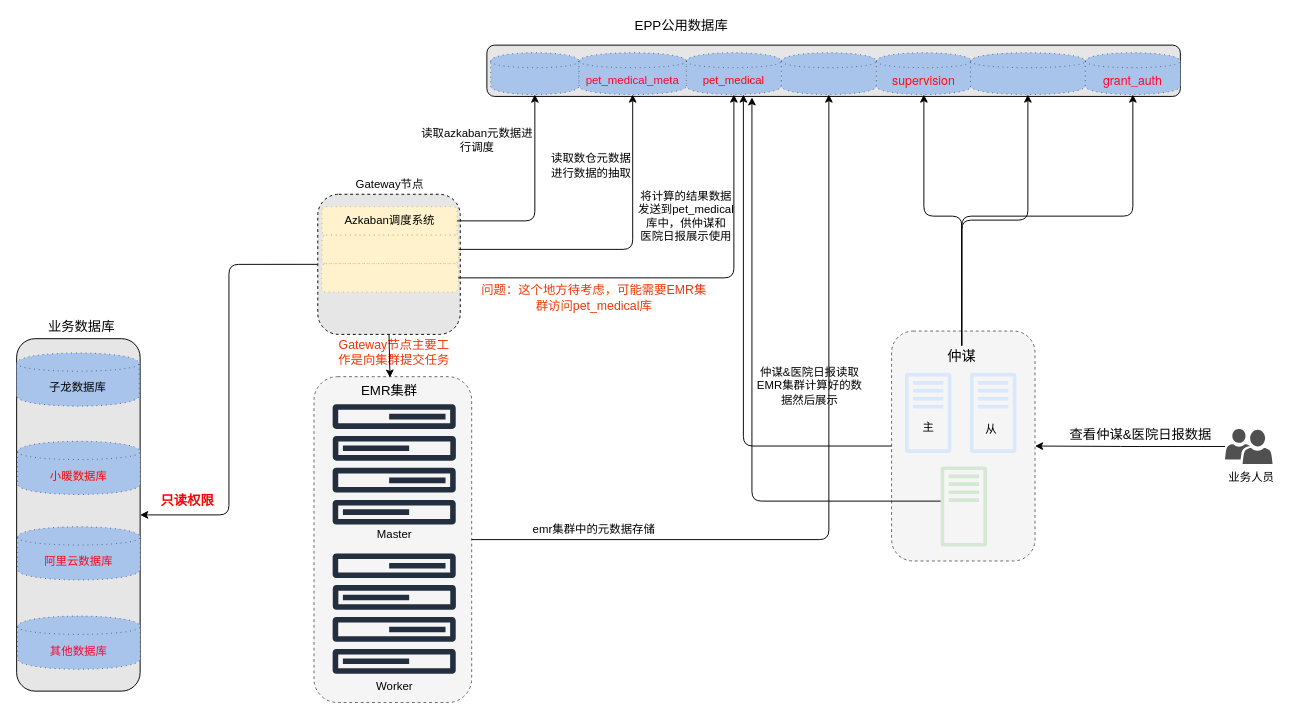
Image size: 1295x719. Some labels were removed from this diagram. The shapes that lost their labels are listed below. From the top down, each one's box as (x1, y1, x2, y2) in pixels, then its label:
(490, 52, 579, 95): azkaban
(780, 52, 876, 95): emr_metadata
(969, 52, 1085, 95): supervision_result
(321, 234, 458, 264): 数据仓库
(321, 263, 458, 292): 数据仓库-应用层
(940, 465, 987, 547): 医院 日报
